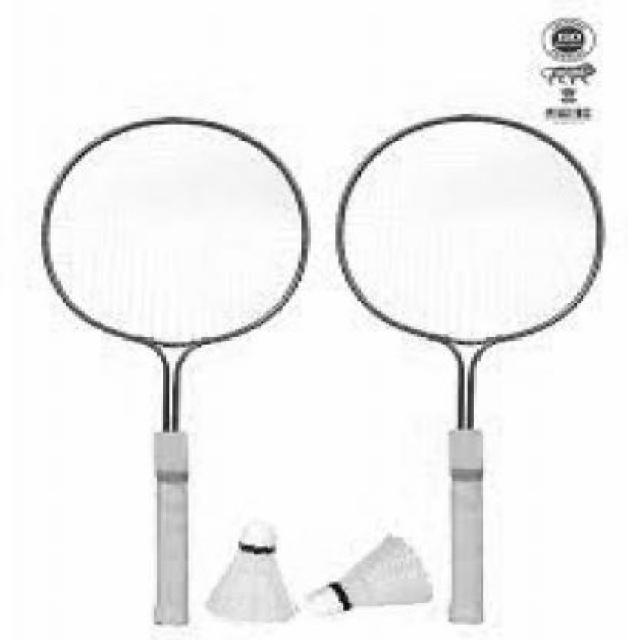Shuttlecock: (305, 528, 437, 617), (202, 514, 303, 626)
